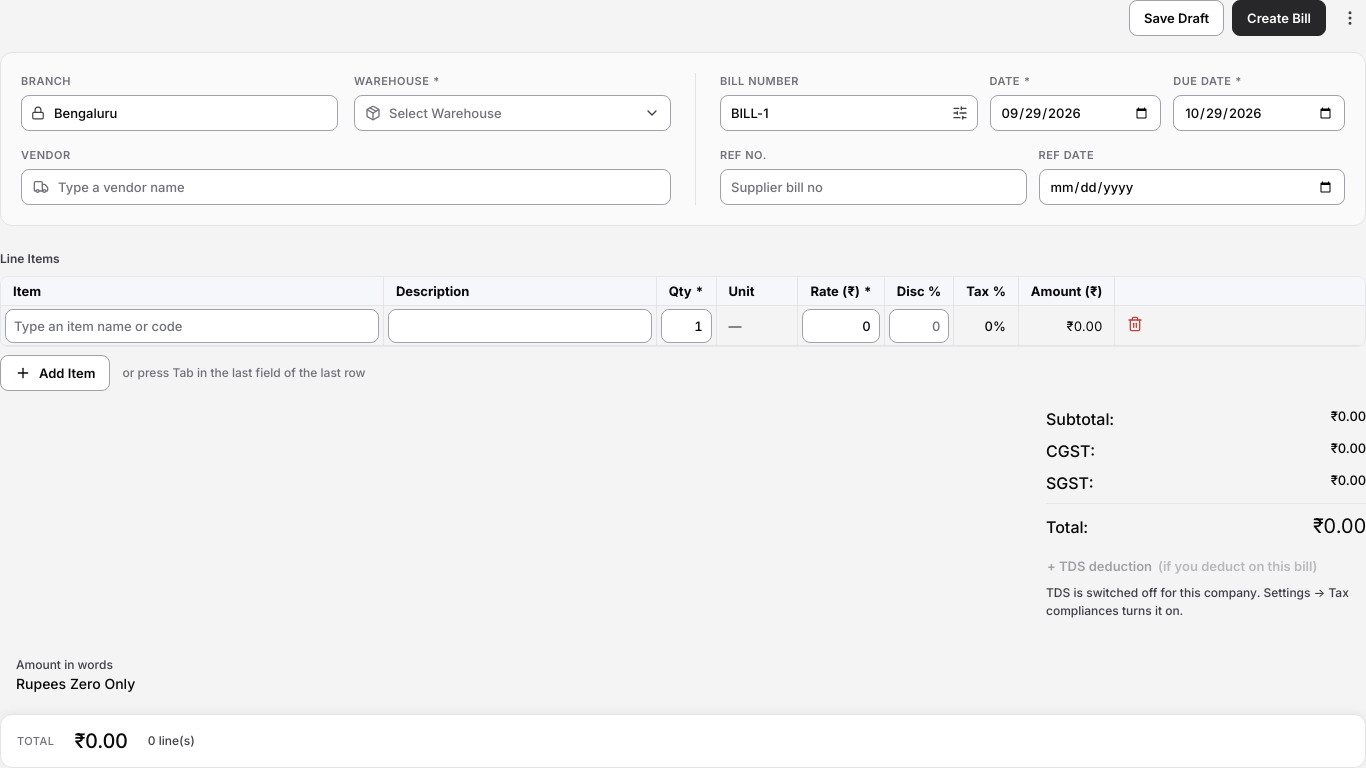
Test: the bill form menu › opens the bill’s custom fields from the menu, in place
Click the button named "More options" at (1350, 18), box [1334,0,1365,36]
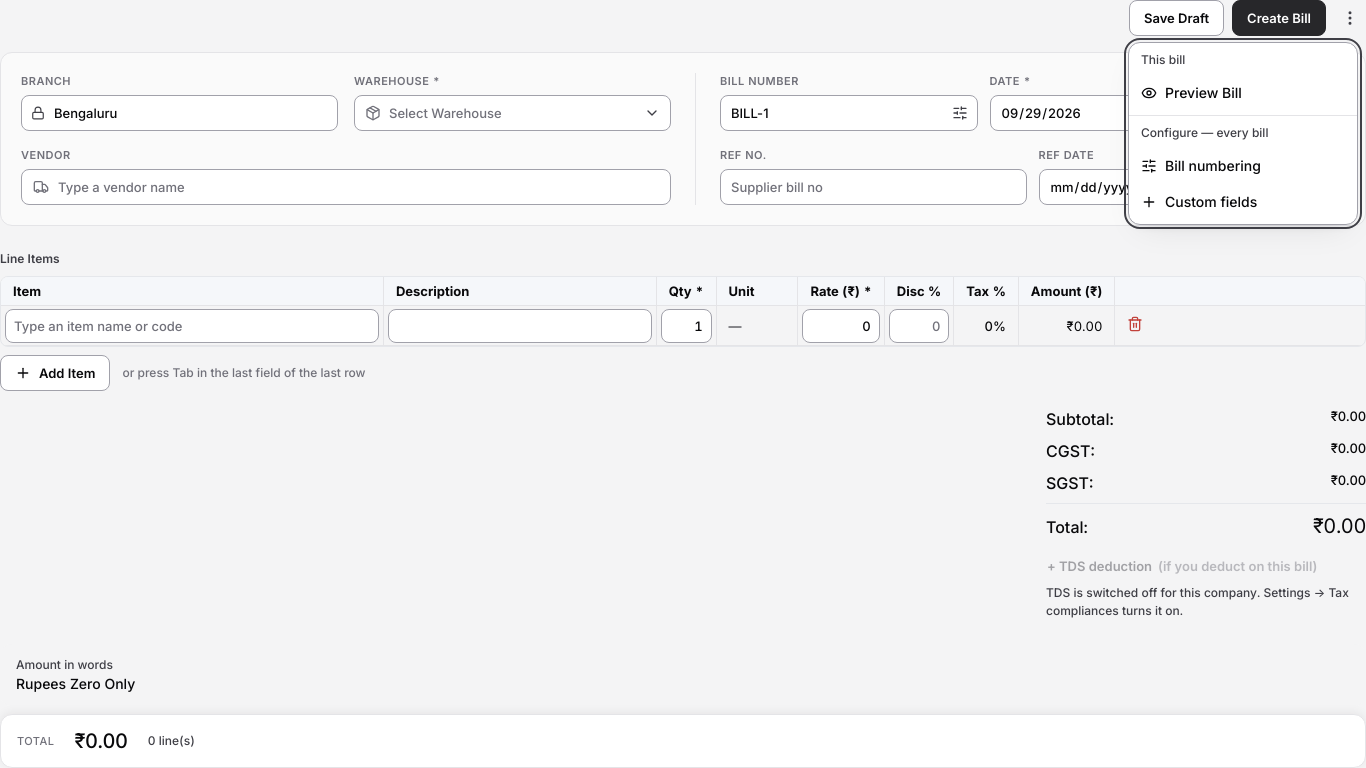
Click the menu item "Custom fields" at (1243, 202), box [1129,184,1357,220]
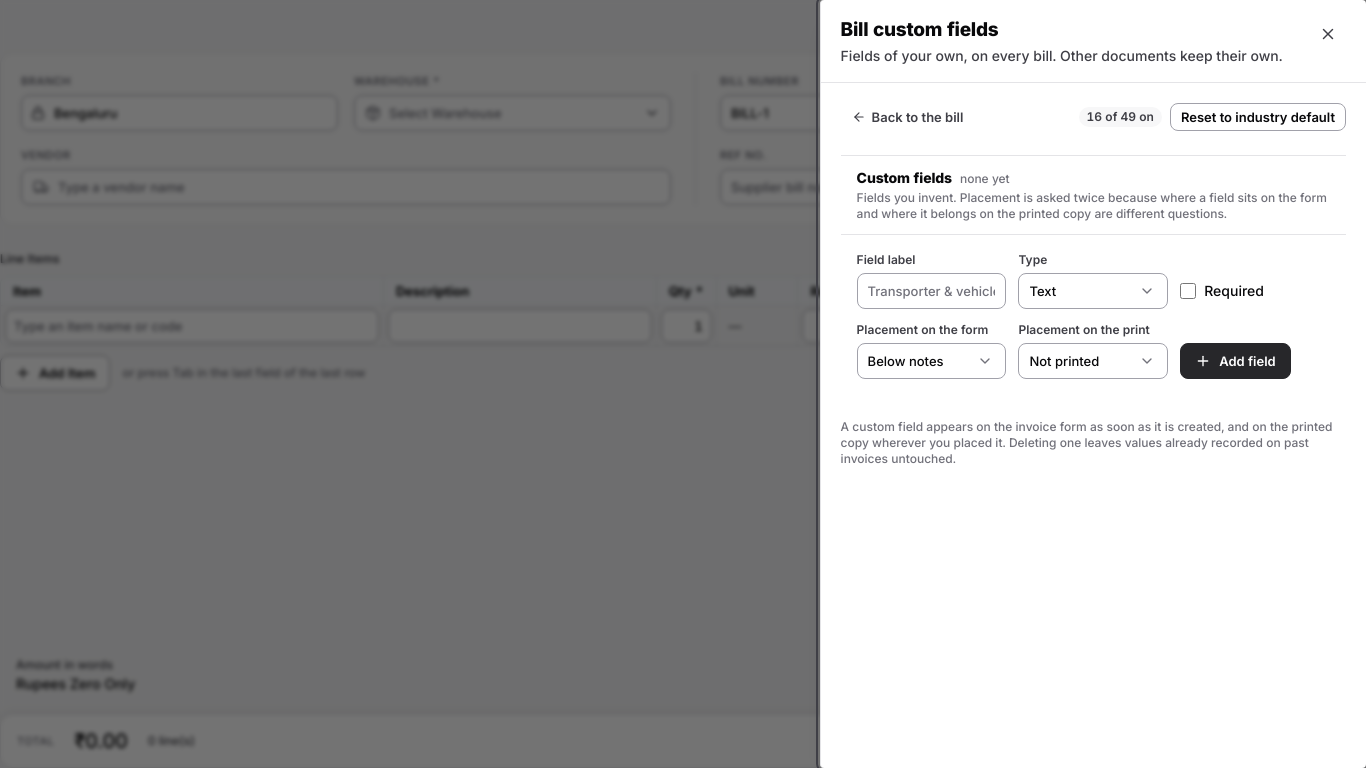
Now the heading "Bill custom fields" is shown, box [841,18,998,41]
